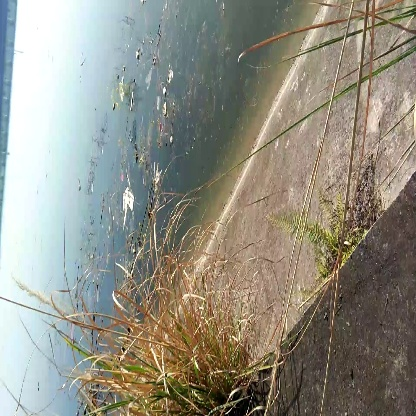grass: (91, 274, 262, 408)
